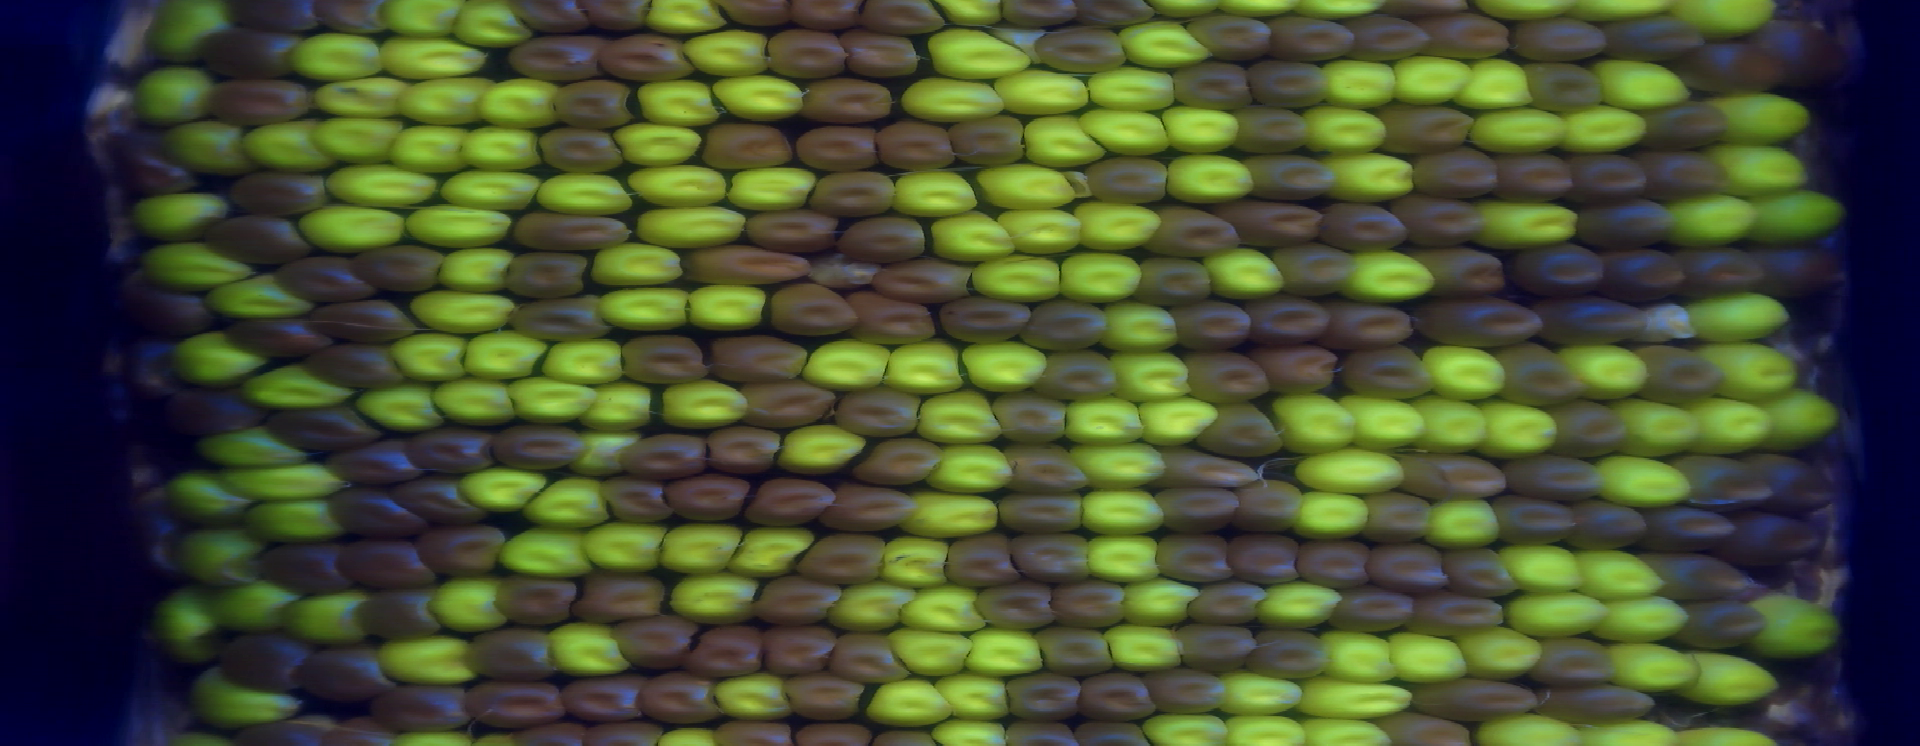fluorescent: (1461, 194, 1589, 249), (1604, 638, 1708, 706), (1685, 643, 1785, 713), (1693, 339, 1802, 399), (131, 54, 218, 129), (193, 670, 309, 726), (1747, 590, 1838, 660), (173, 326, 276, 386), (1458, 619, 1553, 684), (501, 526, 611, 579), (144, 1, 238, 65), (1751, 383, 1844, 446), (1589, 54, 1692, 109), (1569, 544, 1671, 599), (621, 158, 731, 209), (654, 380, 758, 434), (1504, 586, 1607, 639), (975, 159, 1079, 212), (176, 528, 271, 586), (1749, 186, 1851, 239), (1680, 295, 1796, 342), (1065, 437, 1173, 488), (923, 209, 1024, 263), (1300, 674, 1427, 717), (1593, 454, 1691, 510), (324, 160, 443, 206), (602, 281, 698, 337), (1406, 396, 1496, 454), (1478, 396, 1560, 461), (1269, 393, 1356, 454), (356, 380, 451, 436), (628, 205, 748, 249), (284, 593, 384, 646), (236, 364, 362, 405), (189, 271, 311, 314), (133, 191, 238, 241), (142, 589, 224, 653), (528, 470, 615, 530), (880, 337, 969, 396), (1336, 393, 1428, 450), (1709, 94, 1820, 141), (160, 115, 251, 171), (244, 120, 345, 170), (400, 72, 500, 124), (589, 244, 694, 292), (287, 26, 382, 78), (1379, 628, 1469, 684), (502, 375, 601, 425), (802, 334, 899, 386), (1718, 141, 1810, 195), (989, 206, 1090, 255), (1022, 114, 1113, 168), (1611, 402, 1696, 459), (1390, 51, 1478, 107), (887, 169, 983, 219), (931, 28, 1032, 76), (456, 465, 560, 512), (546, 622, 636, 676), (1286, 453, 1412, 491), (711, 72, 804, 124), (465, 331, 556, 383), (1104, 621, 1189, 677), (1081, 107, 1169, 160), (1161, 154, 1258, 203), (1326, 151, 1418, 202), (1071, 200, 1163, 251), (1284, 489, 1374, 541), (140, 241, 246, 285), (611, 121, 709, 169), (413, 288, 516, 333), (384, 327, 475, 379), (378, 637, 481, 682), (1300, 103, 1389, 156), (1663, 191, 1749, 245), (729, 526, 814, 579), (295, 205, 403, 247), (244, 495, 348, 539), (167, 468, 253, 521), (1473, 107, 1571, 153), (535, 170, 636, 216), (1565, 349, 1651, 402), (1693, 394, 1772, 452), (375, 36, 486, 76), (1341, 252, 1430, 303), (1589, 597, 1693, 639), (400, 206, 511, 246), (909, 486, 1002, 534), (969, 252, 1062, 300), (779, 424, 869, 473), (998, 69, 1096, 114), (1501, 544, 1589, 594), (932, 443, 1021, 492), (964, 341, 1053, 390), (431, 577, 507, 635), (1059, 247, 1146, 298), (1096, 300, 1183, 350), (544, 339, 631, 390), (1136, 394, 1221, 446), (920, 394, 1004, 446), (1078, 492, 1171, 539), (451, 1, 541, 49), (566, 425, 649, 477), (231, 461, 344, 499), (680, 285, 771, 332), (585, 379, 666, 431), (204, 581, 298, 626), (1259, 583, 1344, 632), (670, 571, 756, 620), (1111, 350, 1194, 401), (192, 429, 310, 464), (729, 167, 820, 212), (433, 377, 520, 425), (1160, 105, 1244, 154), (1064, 396, 1149, 445), (1076, 532, 1161, 581), (1318, 59, 1400, 109), (1322, 628, 1393, 686), (884, 533, 956, 589), (436, 171, 542, 209), (1425, 345, 1504, 397), (313, 76, 416, 115), (966, 626, 1048, 675), (634, 76, 716, 125), (894, 626, 973, 676), (829, 582, 909, 632), (1420, 501, 1509, 546), (315, 115, 403, 160), (1202, 246, 1288, 293), (1564, 107, 1644, 156), (869, 681, 954, 728), (1456, 61, 1536, 110), (899, 584, 987, 628), (714, 675, 800, 719), (386, 124, 471, 168), (585, 522, 669, 567), (485, 78, 560, 129), (684, 34, 771, 77), (664, 526, 740, 575), (940, 674, 1018, 722), (1678, 1, 1773, 39), (378, 1, 474, 39), (462, 127, 549, 169), (1221, 671, 1303, 715), (1120, 578, 1198, 625), (904, 78, 1004, 114), (1089, 70, 1178, 109), (440, 247, 520, 289), (1120, 24, 1206, 64), (1471, 719, 1580, 746), (1291, 718, 1393, 746), (648, 1, 733, 34), (1221, 714, 1308, 746), (1464, 1, 1573, 24), (1146, 714, 1226, 746), (929, 717, 1007, 746), (931, 1, 1004, 32), (1577, 1, 1673, 23)
nonfluorescent: (1752, 16, 1851, 88), (1646, 550, 1782, 603), (1408, 296, 1550, 347), (1224, 194, 1333, 257), (197, 213, 328, 263), (1532, 293, 1656, 345), (1674, 37, 1785, 93), (122, 268, 216, 336), (1376, 98, 1478, 158), (201, 24, 313, 78), (336, 534, 448, 588), (1507, 15, 1618, 69), (298, 639, 394, 701), (1413, 676, 1539, 723), (460, 675, 571, 728), (1389, 196, 1489, 254), (818, 474, 916, 533), (273, 251, 378, 305), (842, 288, 942, 344), (797, 75, 902, 127), (1493, 345, 1583, 405), (1749, 452, 1839, 512), (371, 679, 474, 731), (213, 633, 311, 688), (1593, 13, 1708, 60), (1238, 153, 1342, 205), (500, 36, 609, 85), (1680, 457, 1777, 512), (598, 32, 698, 85), (1718, 514, 1824, 563), (707, 332, 813, 381), (748, 472, 835, 532), (1644, 145, 1735, 202), (1408, 145, 1499, 202), (609, 612, 703, 668), (468, 628, 562, 684), (1396, 452, 1513, 496), (1573, 198, 1679, 247), (1150, 481, 1245, 535), (1267, 238, 1353, 298), (749, 577, 849, 628), (258, 537, 355, 589), (268, 404, 380, 450), (1033, 28, 1134, 78), (1414, 247, 1512, 299), (386, 480, 491, 528), (743, 208, 853, 254), (853, 432, 943, 488), (227, 168, 338, 212), (773, 282, 868, 333), (571, 571, 664, 624), (868, 258, 976, 304), (1565, 153, 1653, 208), (110, 132, 198, 187), (996, 441, 1092, 491), (869, 118, 964, 169), (162, 386, 266, 432), (1243, 295, 1332, 349), (689, 243, 812, 282), (1142, 208, 1238, 258), (1221, 528, 1304, 586), (1193, 401, 1280, 456), (1171, 622, 1258, 677), (833, 217, 936, 263), (1076, 157, 1167, 209), (332, 484, 422, 537), (1522, 62, 1611, 115), (1363, 540, 1452, 593), (418, 526, 507, 578), (1440, 544, 1520, 603), (1167, 300, 1258, 352), (1599, 250, 1693, 299), (1033, 624, 1119, 677), (555, 673, 654, 719), (782, 675, 872, 726), (1640, 348, 1727, 401), (1675, 247, 1766, 298), (617, 333, 708, 383), (1171, 59, 1256, 111), (662, 472, 748, 524), (1326, 301, 1418, 350), (744, 377, 834, 428), (1490, 152, 1577, 203), (307, 343, 411, 386), (973, 578, 1058, 631), (703, 122, 801, 168), (1315, 201, 1407, 249), (307, 296, 413, 338), (762, 29, 851, 78), (208, 81, 320, 120), (1248, 60, 1332, 111), (1153, 446, 1258, 488), (1344, 350, 1438, 397), (1253, 347, 1343, 394), (802, 533, 884, 586), (1488, 492, 1576, 541), (634, 673, 722, 722), (492, 573, 578, 624), (1153, 534, 1237, 586), (686, 626, 769, 677), (1324, 587, 1416, 633), (1185, 354, 1275, 402), (539, 125, 628, 173), (1344, 12, 1431, 61), (1021, 304, 1108, 353), (840, 387, 927, 436), (354, 247, 453, 290), (516, 213, 627, 251), (1292, 538, 1374, 589), (1420, 16, 1511, 62), (620, 435, 710, 481), (1248, 630, 1333, 679), (1763, 247, 1848, 296), (1521, 243, 1605, 292), (331, 441, 421, 486), (1509, 454, 1607, 496), (845, 31, 922, 83), (1011, 532, 1092, 582), (1133, 258, 1224, 303), (1236, 104, 1314, 156), (993, 391, 1071, 442), (829, 632, 911, 681), (493, 428, 584, 472), (1262, 17, 1356, 60), (936, 300, 1033, 341), (793, 130, 891, 170), (1536, 686, 1651, 720), (765, 622, 836, 677), (1074, 668, 1153, 717), (994, 491, 1093, 530), (408, 428, 493, 473), (1686, 603, 1767, 650), (1413, 593, 1515, 631), (811, 173, 898, 217), (504, 250, 591, 294), (1046, 581, 1130, 626), (1646, 508, 1740, 549), (1183, 582, 1271, 625), (358, 590, 443, 635), (948, 120, 1029, 167), (1649, 107, 1734, 151), (231, 312, 323, 353), (1554, 401, 1624, 453), (1146, 669, 1229, 713), (1008, 668, 1082, 717), (1567, 503, 1647, 549), (598, 478, 677, 523), (560, 78, 629, 130), (1240, 479, 1307, 533), (945, 539, 1021, 586), (511, 303, 610, 338), (1378, 713, 1483, 746), (1038, 355, 1119, 397), (223, 1, 328, 33), (707, 426, 776, 474), (1189, 18, 1273, 58), (861, 1, 953, 37), (238, 717, 348, 746), (1536, 641, 1611, 681), (1369, 494, 1433, 541), (514, 1, 600, 36), (313, 1, 392, 38), (580, 1, 662, 36), (576, 718, 666, 746), (1003, 717, 1082, 746), (707, 723, 804, 746), (322, 717, 396, 746), (718, 1, 806, 23), (795, 1, 867, 27), (509, 723, 587, 746), (1081, 1, 1156, 24), (1007, 1, 1080, 24), (1075, 725, 1147, 746), (868, 726, 934, 746)
